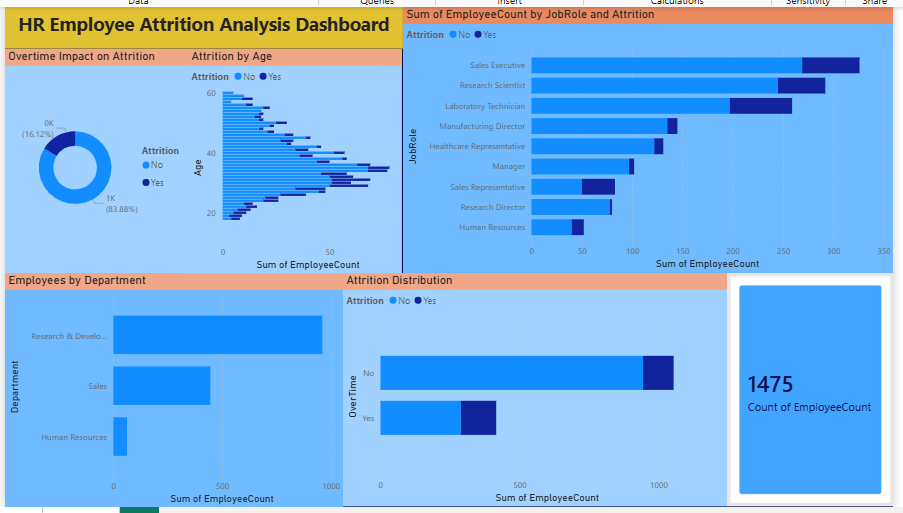

This screenshot's page, from the dashboard's own definition file:
{"tool":"powerbi","page":{"name":"Page 2","canvas":[1280,720],"ordinal":1},"visuals":[{"type":"donutChart","title":"Overtime Impact on Attrition","fields":{"Category":["WA_Fn-UseC_-HR-Employee-Attrition.Attrition"],"Y":["Sum(WA_Fn-UseC_-HR-Employee-Attrition.EmployeeCount)"]},"box":[0,60.3,272.9,322.6],"z":0},{"type":"barChart","title":"Employees by Department","fields":{"Category":["WA_Fn-UseC_-HR-Employee-Attrition.Department"],"Y":["Sum(WA_Fn-UseC_-HR-Employee-Attrition.EmployeeCount)"]},"box":[0,383,487.1,337.6],"z":1000},{"type":"barChart","title":"Attrition Distribution","fields":{"Category":["WA_Fn-UseC_-HR-Employee-Attrition.OverTime"],"Y":["Sum(WA_Fn-UseC_-HR-Employee-Attrition.EmployeeCount)"],"Series":["WA_Fn-UseC_-HR-Employee-Attrition.Attrition"]},"box":[486.8,383.4,552.6,336.4],"z":2000},{"type":"barChart","title":"Attrition by Age","fields":{"Category":["WA_Fn-UseC_-HR-Employee-Attrition.Age"],"Y":["Sum(WA_Fn-UseC_-HR-Employee-Attrition.EmployeeCount)"],"Series":["WA_Fn-UseC_-HR-Employee-Attrition.Attrition"]},"box":[263.1,60.1,308.3,323.3],"z":3000},{"type":"textbox","box":[0,0,572.8,60.5],"z":4000},{"type":"cardVisual","fields":{"Data":["CountNonNull(WA_Fn-UseC_-HR-Employee-Attrition.EmployeeCount)"]},"box":[1039.4,383.4,240.6,336.4],"z":5000},{"type":"barChart","fields":{"Category":["WA_Fn-UseC_-HR-Employee-Attrition.JobRole"],"Y":["Sum(WA_Fn-UseC_-HR-Employee-Attrition.EmployeeCount)"],"Series":["WA_Fn-UseC_-HR-Employee-Attrition.Attrition"]},"box":[572.8,0,707.2,383],"z":6000}]}

Visuals, with their boxes on the page's 1280x720 design canvas (x1, y1, x2, y2). These are canvas units, not pixel positions in the 903x513 screenshot, which may show the page scaled, cropped or inside an application window:
"Overtime Impact on Attrition" donutChart: select_region(0, 60, 273, 383)
"Employees by Department" barChart: select_region(0, 383, 487, 721)
"Attrition Distribution" barChart: select_region(487, 383, 1039, 720)
"Attrition by Age" barChart: select_region(263, 60, 571, 383)
textbox: select_region(0, 0, 573, 60)
cardVisual - CountNonNull(WA_Fn-UseC_-HR-Employee-Attrition.EmployeeCount): select_region(1039, 383, 1280, 720)
barChart - WA_Fn-UseC_-HR-Employee-Attrition.JobRole x Sum(WA_Fn-UseC_-HR-Employee-Attrition.EmployeeCount): select_region(573, 0, 1280, 383)
